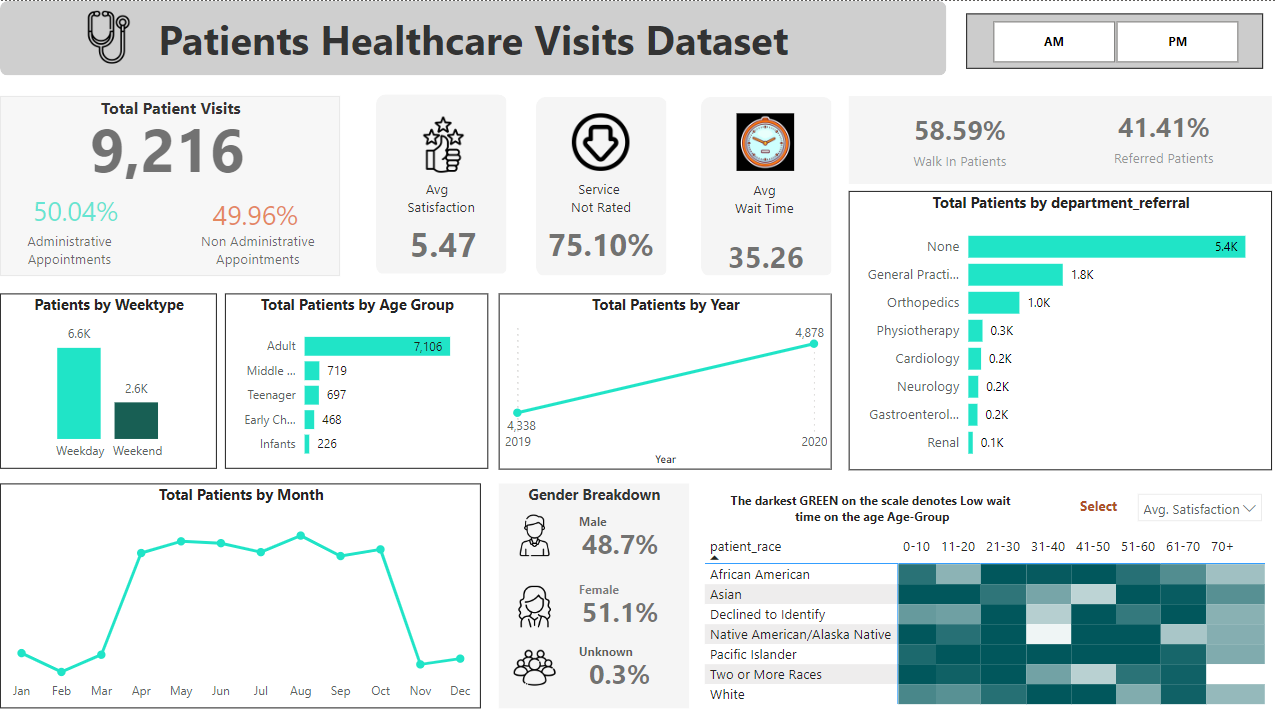

What the dashboard file says about the page in this screenshot:
{"tool":"powerbi","page":{"name":"Page 1","canvas":[1280,720],"ordinal":0},"visuals":[{"type":"card","fields":{"Values":["Calculations.Total Patients"]},"box":[70.9,107.6,192,75.8],"z":0},{"type":"card","fields":{"Values":["Calculations.% Administrative Schedule"]},"box":[17.1,183.4,116.2,55],"z":1000},{"type":"pivotTable","fields":{"Values":["Calculations.Average Satisfaction Score"],"Rows":["Patient Datasets.patient_race"],"Columns":["Patient Datasets.Age Buckets"]},"box":[699.5,528.3,572.3,179.8],"z":2000},{"type":"slicer","fields":{"Values":["Parameter.Parameter"]},"box":[1127.5,483,144.3,45.2],"z":3000},{"type":"clusteredBarChart","fields":{"Category":["Patient Datasets.Age Group"],"Y":["Calculations.Total Patients"]},"box":[225,292.3,262.9,174.9],"z":4000},{"type":"slicer","fields":{"Values":["Patient Datasets.Moment"]},"box":[966,12.2,297.1,55],"z":5000},{"type":"lineChart","fields":{"Y":["Calculations.Total Patients"],"Category":["Date.Year"]},"box":[498.9,292.3,332.6,176.1],"z":6000},{"type":"clusteredBarChart","fields":{"Category":["Patient Datasets.department_referral"],"Y":["Calculations.Total Patients"]},"box":[848.6,189.5,423.1,278.8],"z":7000},{"type":"card","fields":{"Values":["Calculations.% Referred Patients"]},"box":[1090.8,101.5,145.5,69.7],"z":8000},{"type":"card","fields":{"Values":["Calculations.% Un Referred Patients"]},"box":[876.8,101.5,167.5,75.8],"z":9000},{"type":"card","fields":{"Values":["Calculations.Hitmap Caption"]},"box":[699.5,483,344.8,51.4],"z":10000},{"type":"card","fields":{"Values":["Calculations.% Non-Administrative Schedule"]},"box":[198.1,189.5,116.2,48.9],"z":11000},{"type":"textbox","box":[15.9,226.2,106.4,62.4],"z":12000},{"type":"textbox","box":[189.5,226.2,135.7,47.7],"z":13000},{"type":"card","fields":{"Values":["Calculations.Average Satisfaction Score"]},"box":[377.9,204.2,132.1,79.5],"z":14000},{"type":"card","fields":{"Values":["Calculations.% of No Rating"]},"box":[534.4,199.3,132.1,89.3],"z":15000},{"type":"card","fields":{"Values":["Calculations.Average Wait Time"]},"box":[699.5,221.3,132.1,70.9],"z":16000},{"type":"columnChart","title":"Patients by Weektype","fields":{"Y":["Calculations.Total Patients"],"Category":["Date.Weektype"]},"box":[0,292.3,216.4,174.9],"z":17000},{"type":"card","title":"Male","fields":{"Values":["Calculations.% Female Visits"]},"box":[573.5,512.4,92.9,47.7],"z":18000},{"type":"card","title":"Female","fields":{"Values":["Calculations.% Male Visits"]},"box":[573.5,579.6,92.9,47.7],"z":19000},{"type":"card","title":"Unknown","fields":{"Values":["Calculations.% Unknown"]},"box":[573.5,642,91.7,47.7],"z":20000},{"type":"shape","box":[0,0,946.5,74.6],"z":21000},{"type":"image","box":[70.9,4.9,75.8,62.4],"z":22000},{"type":"shape","box":[0,95.4,339.9,179.8],"z":23000},{"type":"shape","box":[375.4,92.9,132.1,181],"z":24000},{"type":"shape","box":[534.4,95.4,132.1,179.8],"z":25000},{"type":"shape","box":[699.5,95.4,132.1,179.8],"z":26000},{"type":"image","box":[407.2,110.1,72.1,67.3],"z":27000},{"type":"image","box":[566.2,107.6,68.5,67.3],"z":28000},{"type":"image","box":[723.9,107.6,83.2,67.3],"z":29000},{"type":"textbox","box":[402.3,173.6,85.6,51.4],"z":30000},{"type":"textbox","box":[555.2,173.6,89.3,51.4],"z":31000},{"type":"textbox","box":[730,174.9,89.3,51.4],"z":32000},{"type":"shape","box":[848.6,95.4,423.1,88],"z":33000},{"type":"textbox","box":[1060.2,491.6,55,33],"z":34000},{"type":"shape","box":[498.9,483,190.8,225],"z":35000},{"type":"image","box":[505,508.7,58.7,51.4],"z":36000},{"type":"image","box":[505,579.6,58.7,51.4],"z":37000},{"type":"image","box":[505,638.3,58.7,56.3],"z":38000},{"type":"lineChart","fields":{"Y":["Calculations.Total Patients"],"Category":["Date.Month"]},"box":[0,483,480.6,225],"z":39000}]}

Visuals, with their boxes in screenshot pixels (x1, y1, x2, y2), scaled from the page's 1280x720 canvas onto the 1275x719 screenshot:
card - Calculations.Total Patients: left=71, top=107, right=262, bottom=183
card - Calculations.% Administrative Schedule: left=17, top=183, right=133, bottom=238
pivotTable - Calculations.Average Satisfaction Score x Patient Datasets.patient_race: left=697, top=528, right=1267, bottom=707
slicer - Parameter.Parameter: left=1123, top=482, right=1267, bottom=527
clusteredBarChart - Patient Datasets.Age Group x Calculations.Total Patients: left=224, top=292, right=486, bottom=467
slicer - Patient Datasets.Moment: left=962, top=12, right=1258, bottom=67
lineChart - Calculations.Total Patients x Date.Year: left=497, top=292, right=828, bottom=468
clusteredBarChart - Patient Datasets.department_referral x Calculations.Total Patients: left=845, top=189, right=1267, bottom=468
card - Calculations.% Referred Patients: left=1087, top=101, right=1231, bottom=171
card - Calculations.% Un Referred Patients: left=873, top=101, right=1040, bottom=177
card - Calculations.Hitmap Caption: left=697, top=482, right=1040, bottom=534
card - Calculations.% Non-Administrative Schedule: left=197, top=189, right=313, bottom=238
textbox: left=16, top=226, right=122, bottom=288
textbox: left=189, top=226, right=324, bottom=274
card - Calculations.Average Satisfaction Score: left=376, top=204, right=508, bottom=283
card - Calculations.% of No Rating: left=532, top=199, right=664, bottom=288
card - Calculations.Average Wait Time: left=697, top=221, right=828, bottom=292
"Patients by Weektype" columnChart: left=0, top=292, right=216, bottom=467
"Male" card: left=571, top=512, right=664, bottom=559
"Female" card: left=571, top=579, right=664, bottom=626
"Unknown" card: left=571, top=641, right=663, bottom=689
shape: left=0, top=0, right=943, bottom=74
image: left=71, top=5, right=146, bottom=67
shape: left=0, top=95, right=339, bottom=275
shape: left=374, top=93, right=506, bottom=274
shape: left=532, top=95, right=664, bottom=275
shape: left=697, top=95, right=828, bottom=275
image: left=406, top=110, right=477, bottom=177
image: left=564, top=107, right=632, bottom=175
image: left=721, top=107, right=804, bottom=175
textbox: left=401, top=173, right=486, bottom=225
textbox: left=553, top=173, right=642, bottom=225
textbox: left=727, top=175, right=816, bottom=226
shape: left=845, top=95, right=1267, bottom=183
textbox: left=1056, top=491, right=1111, bottom=524
shape: left=497, top=482, right=687, bottom=707
image: left=503, top=508, right=561, bottom=559
image: left=503, top=579, right=561, bottom=630
image: left=503, top=637, right=561, bottom=694
lineChart - Calculations.Total Patients x Date.Month: left=0, top=482, right=479, bottom=707
